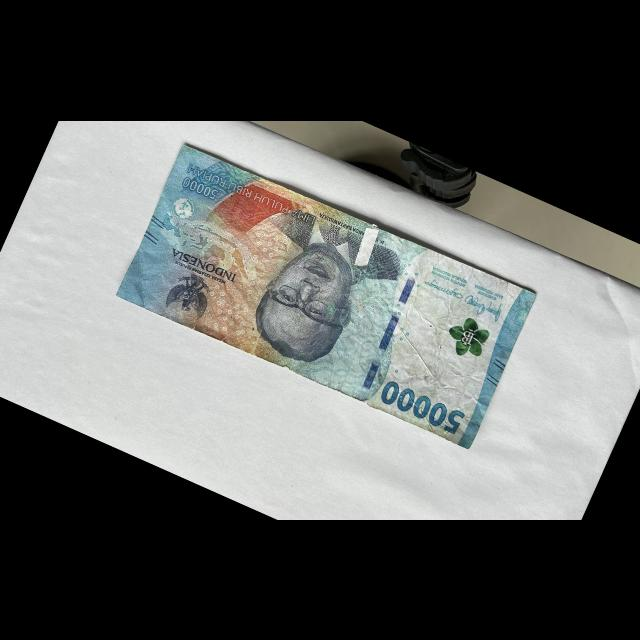Palsu-50k: (111, 137, 540, 452)
Tinta-Palsu-50k: (441, 311, 493, 363)
